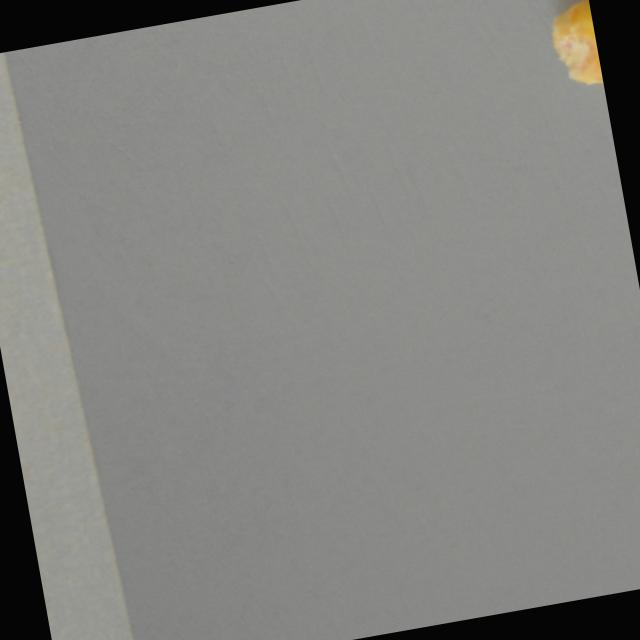pelicula: (544, 0, 603, 91)
